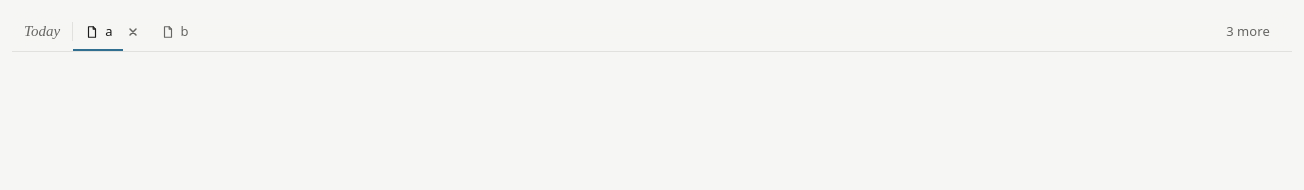
Test: the review fixes › R2 the N more list does not come back by itself once the tabs that folded it are gone
What coordinates should you click on to do the following:
click the button "3 more"
I would click on:
 (1248, 32)
Its box is 1204,12 -> 1292,51.
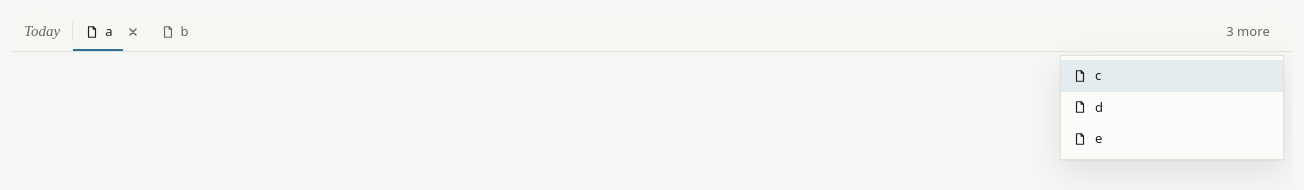
Now the menu is shown, box 1060,55 -> 1284,160
